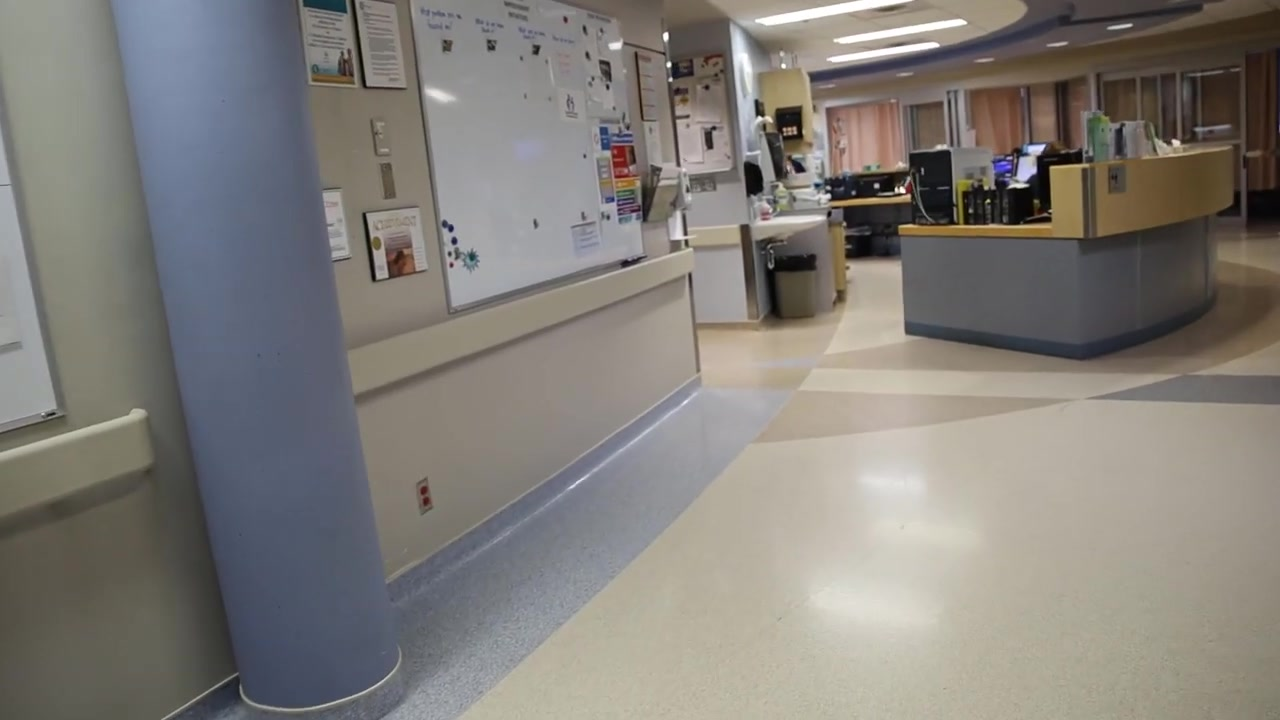cabinet: (757, 71, 816, 157)
counter: (903, 145, 1233, 360)
curtain: (826, 97, 919, 177), (972, 86, 1022, 154)
dispenser: (667, 167, 696, 241), (757, 132, 787, 184), (744, 160, 764, 198)
hallway_assist_bar: (347, 247, 695, 396), (1, 408, 154, 520), (688, 224, 741, 245)
sink: (752, 214, 827, 241)
waste_bin: (773, 253, 817, 318)
